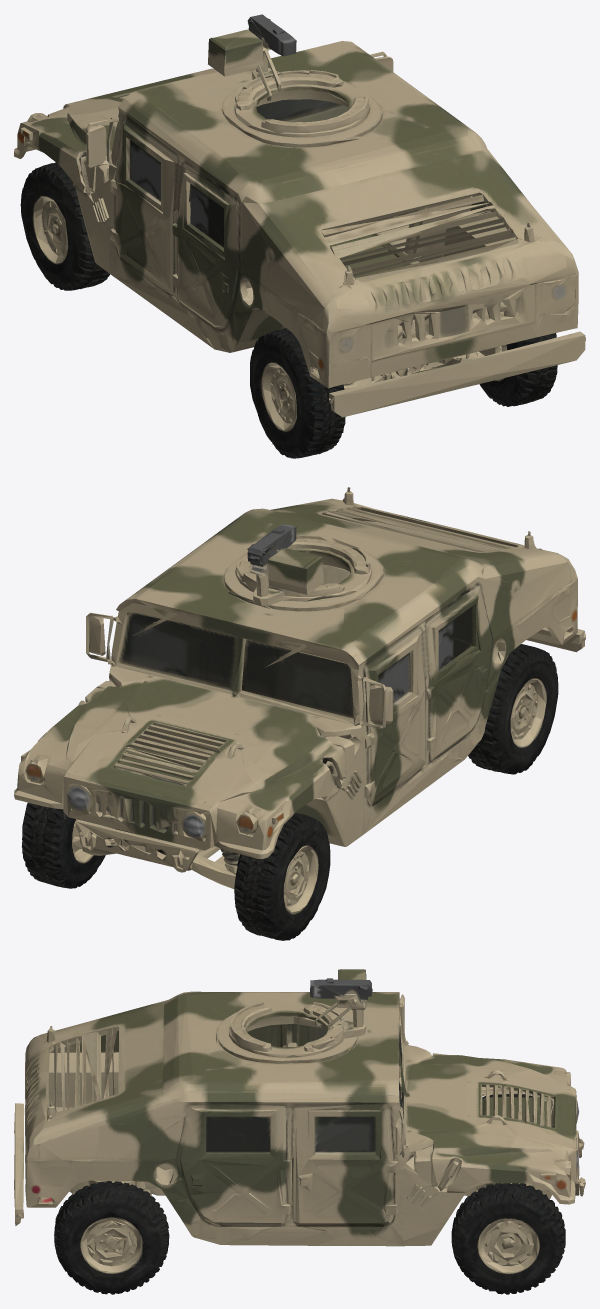
File: humvee.glb
The picture shows the model from 3 angles, top to bottom: view 1: azimuth 30°, elevation 25°; view 2: azimuth 150°, elevation 25°; view 3: azimuth 270°, elevation 25°; orthographic projection. The views are drawn at different scales.
Parts seen in each view (by area): view 1: humvee; view 2: humvee; view 3: humvee.
Boxes of the visible parts, bbox=[...] form: humvee: bbox=[14, 14, 585, 458]; humvee: bbox=[14, 487, 585, 940]; humvee: bbox=[14, 969, 585, 1294].
Size of the model in its own units: 2.63 by 2.5 by 4.9.
1 material, 1 textured.
